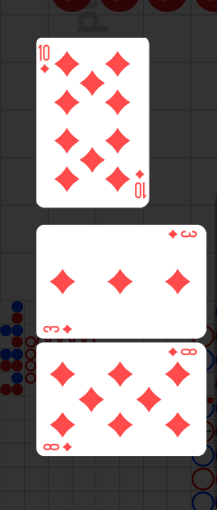10D: (134, 168, 148, 200), (39, 43, 52, 75)
8D: (42, 441, 74, 453)
